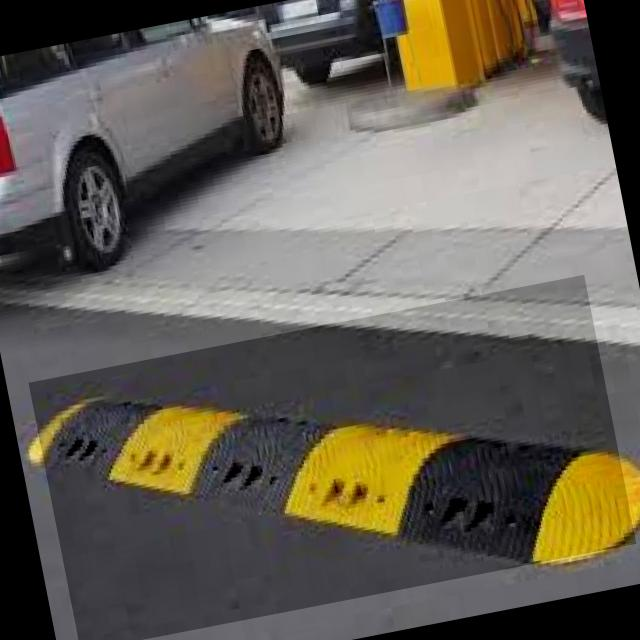bump: (28, 275, 636, 640)
